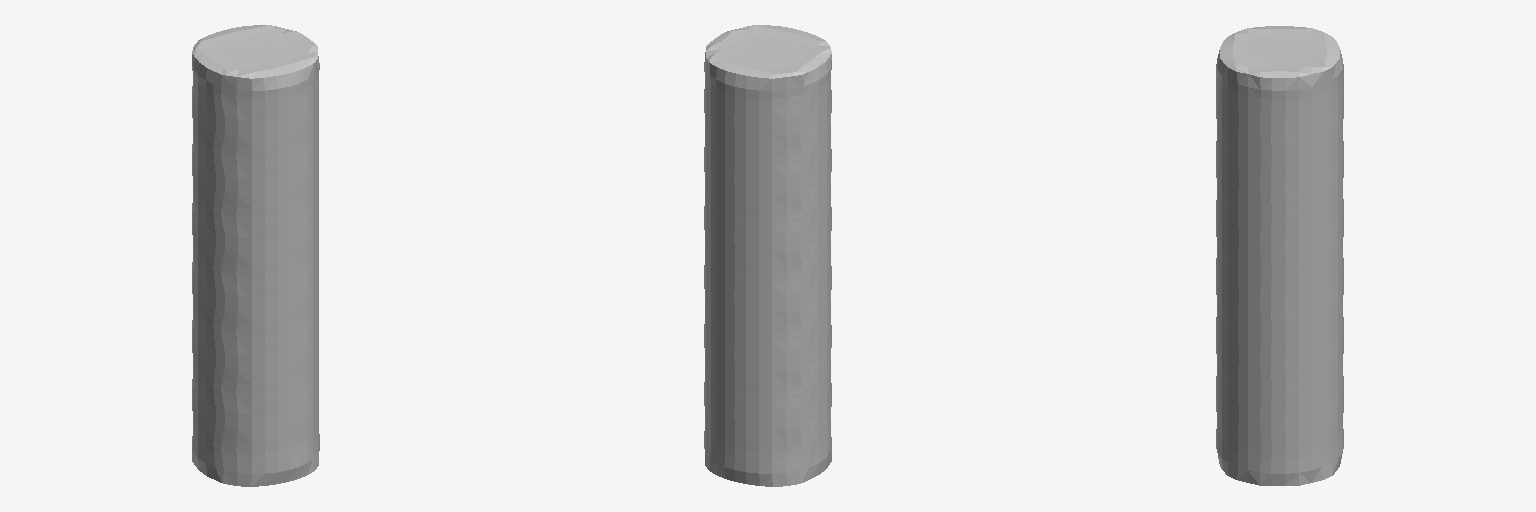
The model's file is SubTool-4-10257848.OBJ.
3 renders of one model, left to right at view 1: azimuth 30°, elevation 25°; view 2: azimuth 150°, elevation 25°; view 3: azimuth 270°, elevation 25°, orthographic.
Visible parts, largest first — view 1: Group23252; view 2: Group23252; view 3: Group23252.
Part boxes in pixels (x1,y1,x2,y2): Group23252: (192, 25, 319, 486); Group23252: (704, 25, 831, 486); Group23252: (1216, 26, 1343, 485).
Size of the model in its own units: 0.1534 by 0.5504 by 0.154.